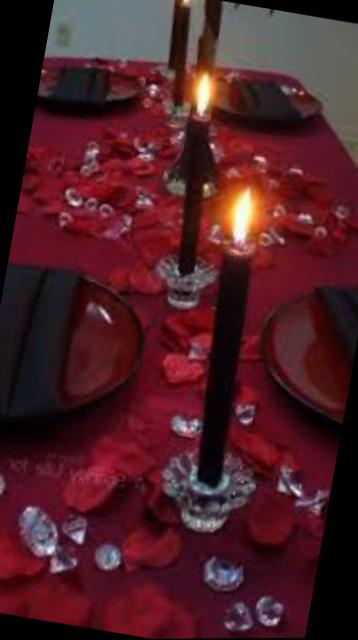fire: (227, 183, 276, 244), (185, 69, 226, 118)
